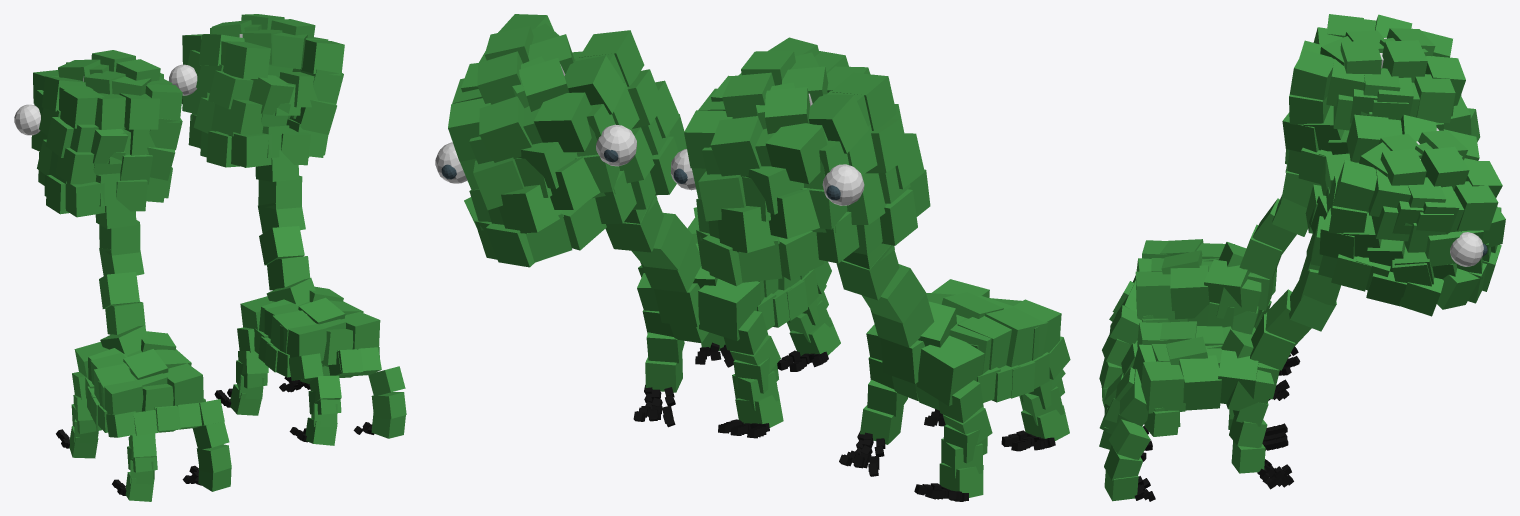
The picture shows the model from 3 angles, left to right: view 1: azimuth 30°, elevation 25°; view 2: azimuth 150°, elevation 25°; view 3: azimuth 270°, elevation 25°; orthographic projection. The views are drawn at different scales.
Parts seen in each view (by area): view 1: node_MeshObject609656832-PolyPaper21, node_MeshObject-1654210560-PolyPaper17, node_MeshObject1181735936-PolyPaper21, node_MeshObject-1082131456-PolyPaper10; view 2: node_MeshObject609656832-PolyPaper21, node_MeshObject-1654210560-PolyPaper17, node_MeshObject1181735936-PolyPaper21, node_MeshObject-1082131456-PolyPaper10; view 3: node_MeshObject-1654210560-PolyPaper17, node_MeshObject609656832-PolyPaper21, node_MeshObject-1082131456-PolyPaper10, node_MeshObject1181735936-PolyPaper21.
Part boxes in pixels (x1=…): node_MeshObject609656832-PolyPaper21: x1=14, y1=50, x2=231, y2=494; node_MeshObject-1654210560-PolyPaper17: x1=181, y1=14, x2=406, y2=436; node_MeshObject1181735936-PolyPaper21: x1=56, y1=50, x2=405, y2=501; node_MeshObject-1082131456-PolyPaper10: x1=63, y1=19, x2=344, y2=439; node_MeshObject609656832-PolyPaper21: x1=670, y1=37, x2=1070, y2=500; node_MeshObject-1654210560-PolyPaper17: x1=435, y1=23, x2=832, y2=435; node_MeshObject1181735936-PolyPaper21: x1=464, y1=66, x2=1069, y2=501; node_MeshObject-1082131456-PolyPaper10: x1=452, y1=14, x2=963, y2=501; node_MeshObject-1654210560-PolyPaper17: x1=1099, y1=114, x2=1505, y2=489; node_MeshObject609656832-PolyPaper21: x1=1099, y1=14, x2=1480, y2=407; node_MeshObject-1082131456-PolyPaper10: x1=1226, y1=148, x2=1459, y2=478; node_MeshObject1181735936-PolyPaper21: x1=1099, y1=27, x2=1486, y2=501.
Size of the model in its own units: 5.01 by 5.02 by 4.86.
